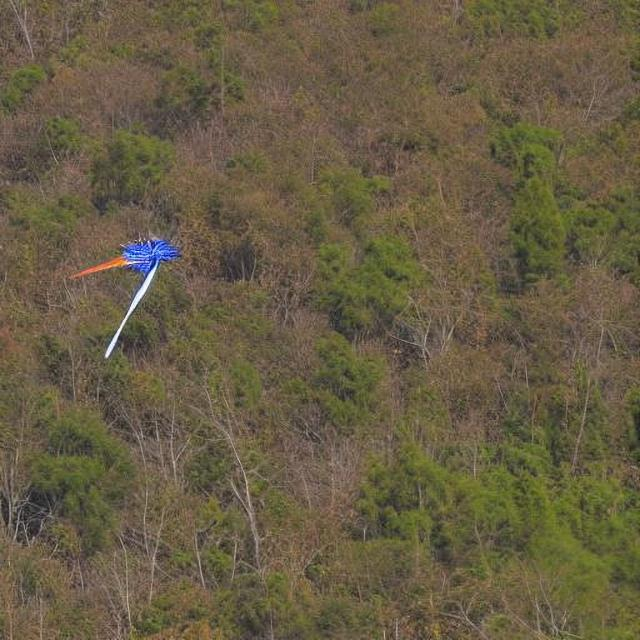floating object: (68, 232, 176, 283)
